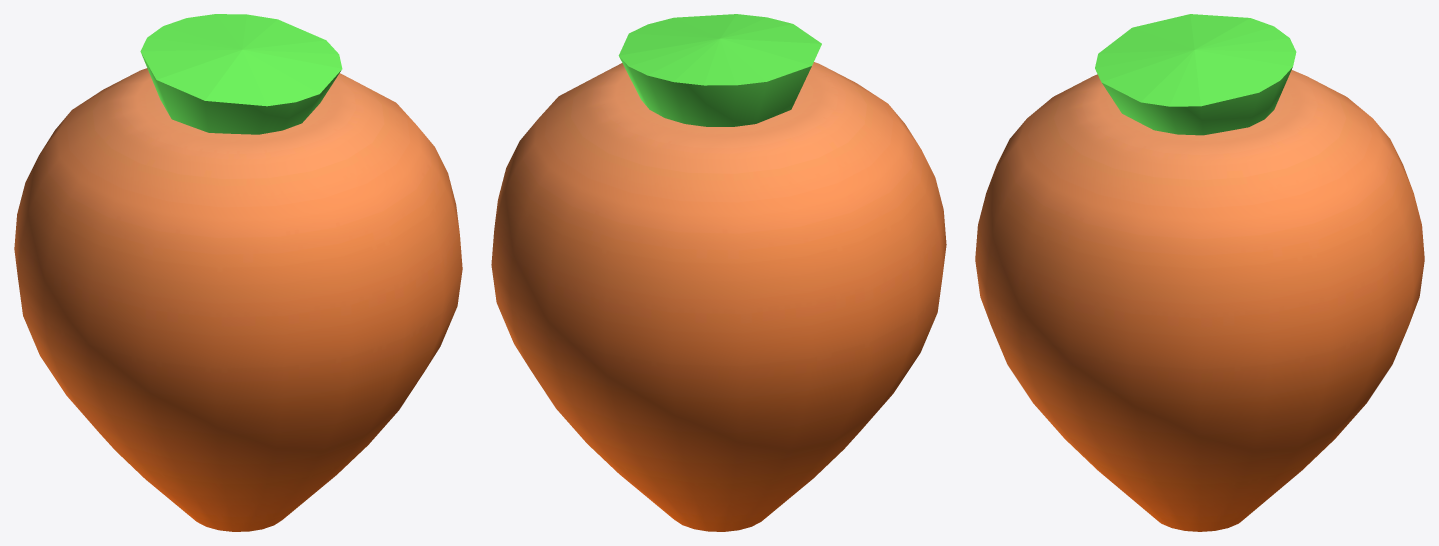
File: luobo.fbx
The picture shows the model from 3 angles, left to right: view 1: azimuth 30°, elevation 25°; view 2: azimuth 150°, elevation 25°; view 3: azimuth 270°, elevation 25°; orthographic projection.
Parts seen in each view (by area): view 1: pCone11; view 2: pCone11; view 3: pCone11.
Part boxes in pixels (box(x1,y1,x2,y2)): pCone11: box(14, 14, 462, 531); pCone11: box(491, 14, 946, 531); pCone11: box(975, 14, 1424, 531).
Bounding box in the file's own units: 1.5 × 1.5 × 1.77.
Materials: 2 (1 with a texture image).
